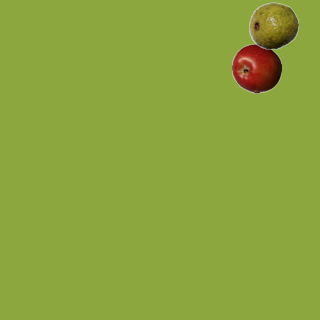Apple Braeburn: (231, 43, 281, 93)
Guava: (248, 0, 298, 50)
